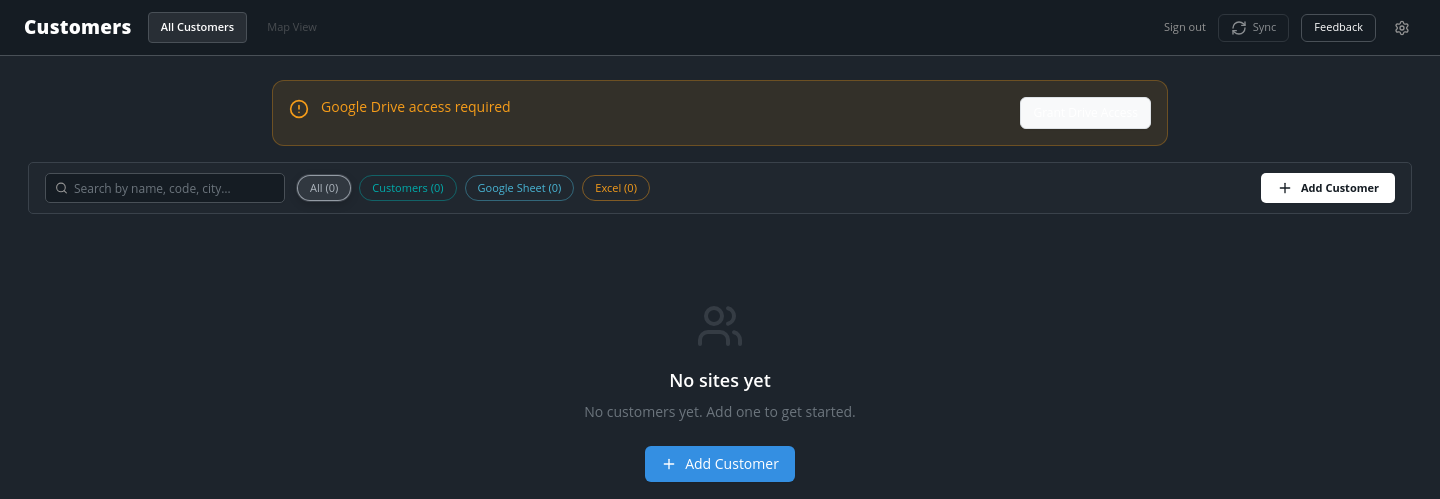
Test: Drive site-configs › shows Grant Drive Access when the folder itself refuses this account, and recovers after granting
Check: the message "Google Drive access required Grant Drive Access" is shown, box top-left (272, 80), bottom-right (1168, 146)
What coordinates should you click on to do the following:
click the button "Grant Drive Access"
I would click on:
 (1086, 113)
Its box is top-left (1020, 97), bottom-right (1151, 129).
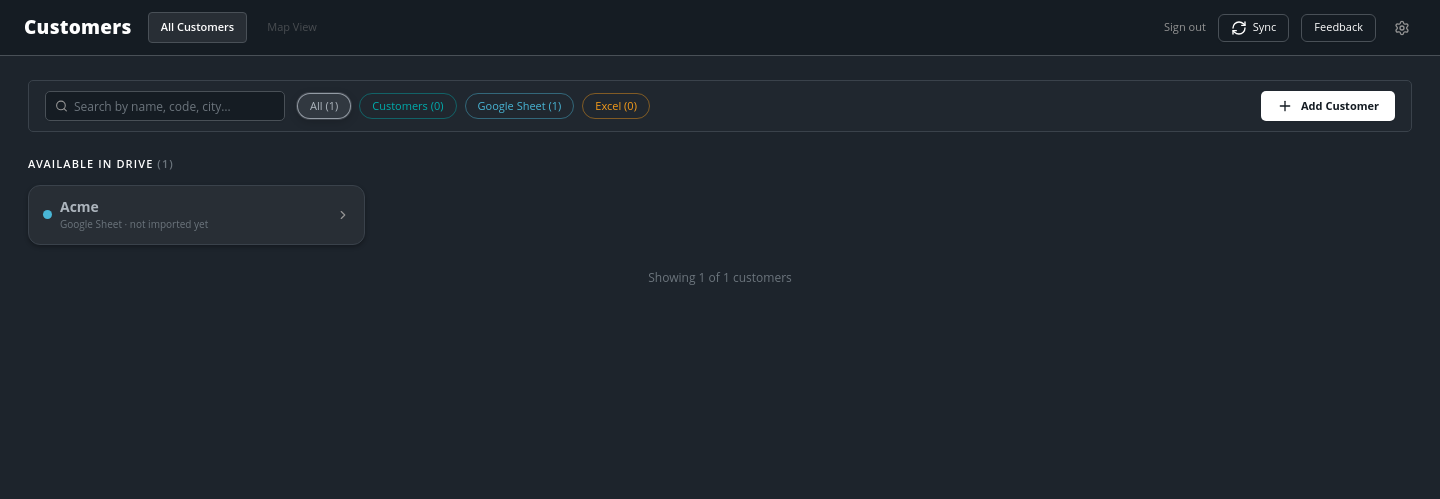
Check: the heading "Acme" is shown, box top-left (60, 198), bottom-right (99, 215)
Check: the button "Grant Drive Access" is gone
